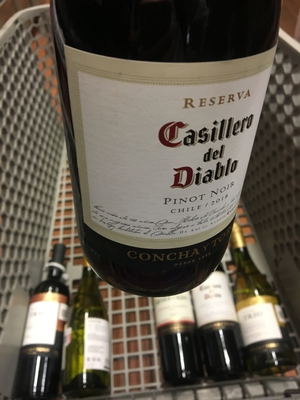casillero del diablo pinot noir: (49, 1, 273, 286)
